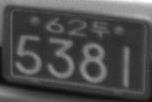1: (114, 46, 139, 88)
2: (67, 18, 87, 37)
3: (46, 37, 75, 80)
5: (14, 34, 42, 75)
6: (45, 16, 65, 34)
8: (79, 41, 107, 84)
두: (90, 19, 110, 38)
